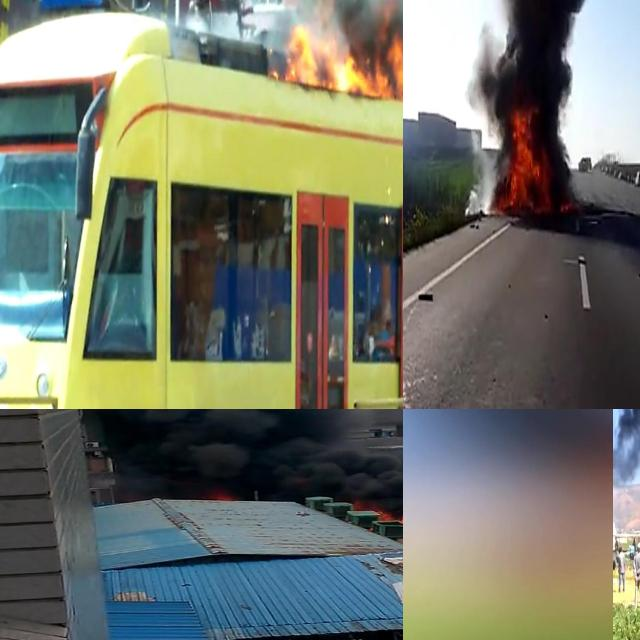fire: (283, 22, 403, 98), (494, 113, 576, 217), (379, 499, 403, 525)
smoke: (90, 409, 356, 475), (464, 0, 589, 112), (346, 452, 403, 504)
